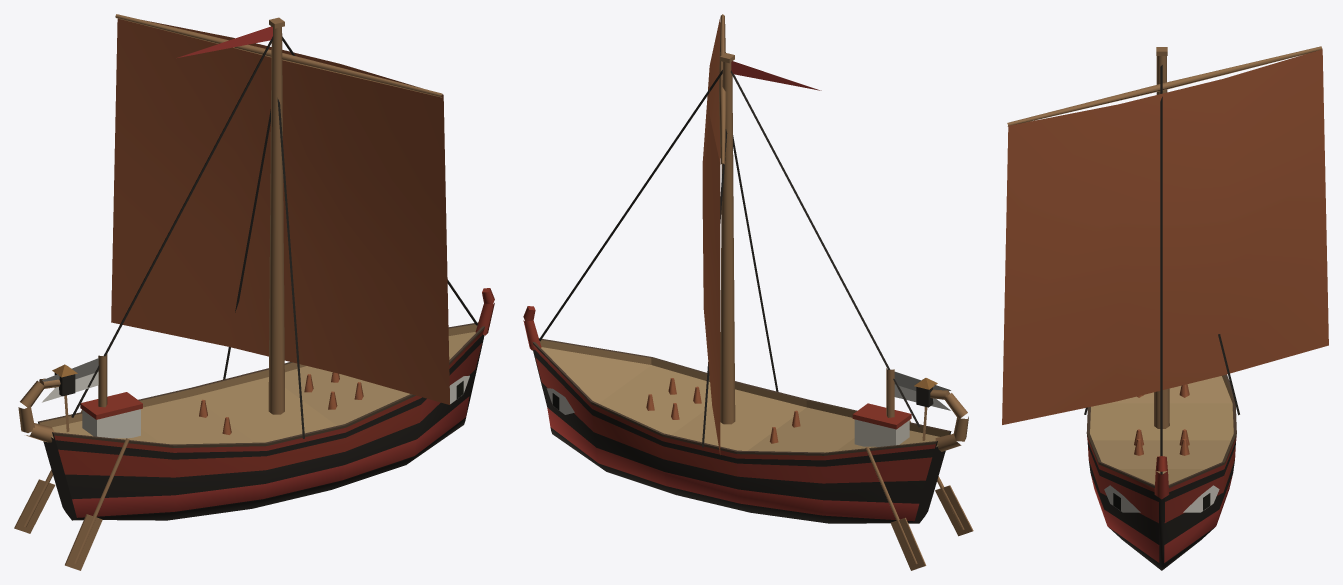
File: hull_eur_greek_small.glb
3 views of the same model, side by side, from view 1: azimuth 30°, elevation 25°; view 2: azimuth 150°, elevation 25°; view 3: azimuth 270°, elevation 25° (orthographic). The views are drawn at different scales.
Visible parts, largest first — view 1: sail_main, hull, mast, deck, rigging, yards, flag; view 2: hull, sail_main, deck, mast, rigging, flag, yards; view 3: sail_main, hull, yards, rigging, mast, deck.
Boxes of the visible parts, bbox=[...] form: sail_main: bbox=[111, 18, 450, 404]; hull: bbox=[18, 288, 494, 520]; mast: bbox=[98, 17, 284, 414]; deck: bbox=[14, 364, 363, 570]; rigging: bbox=[71, 36, 477, 438]; yards: bbox=[115, 14, 442, 97]; flag: bbox=[42, 26, 272, 402]; hull: bbox=[523, 306, 968, 523]; sail_main: bbox=[702, 17, 720, 454]; deck: bbox=[646, 378, 973, 570]; mast: bbox=[720, 53, 894, 424]; rigging: bbox=[539, 70, 920, 447]; flag: bbox=[731, 61, 950, 410]; yards: bbox=[719, 14, 726, 164]; sail_main: bbox=[1002, 49, 1328, 424]; hull: bbox=[1086, 374, 1236, 570]; yards: bbox=[1007, 46, 1322, 126]; rigging: bbox=[1084, 65, 1239, 474]; mast: bbox=[1154, 47, 1169, 428]; deck: bbox=[1134, 384, 1189, 455].
Bounding box in the file's own units: 10.79 × 10.35 × 6.66.
